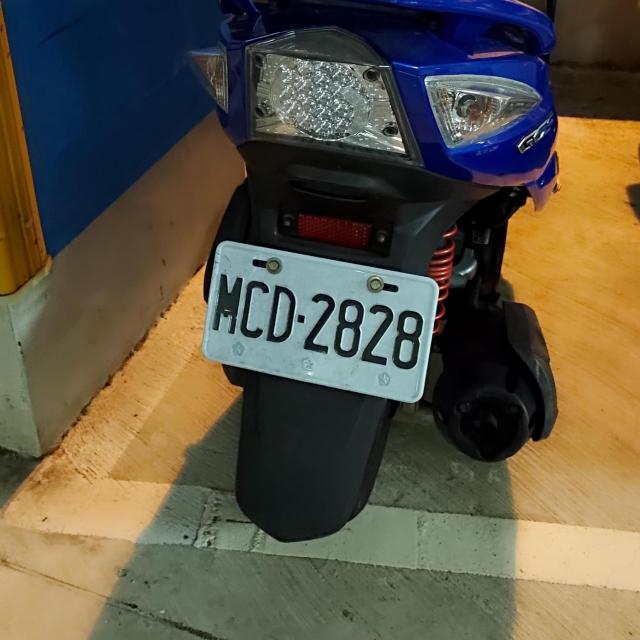W: (196, 239, 442, 399)
